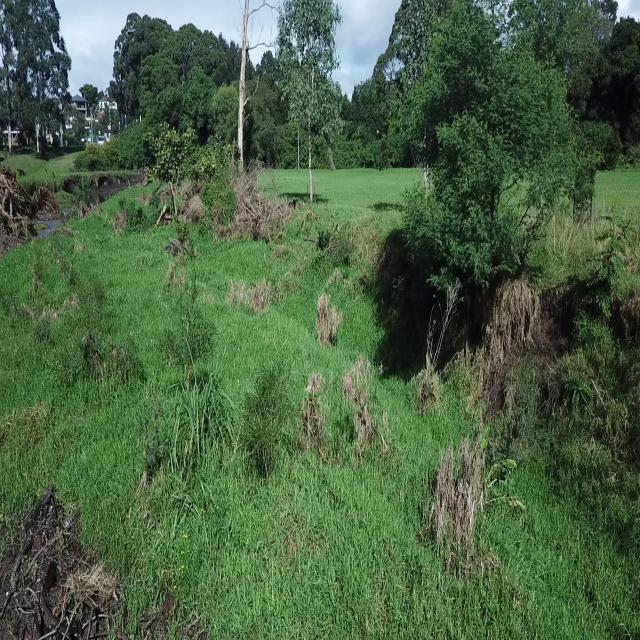Mysore-Thorn-Weed: (588, 200, 636, 297)
